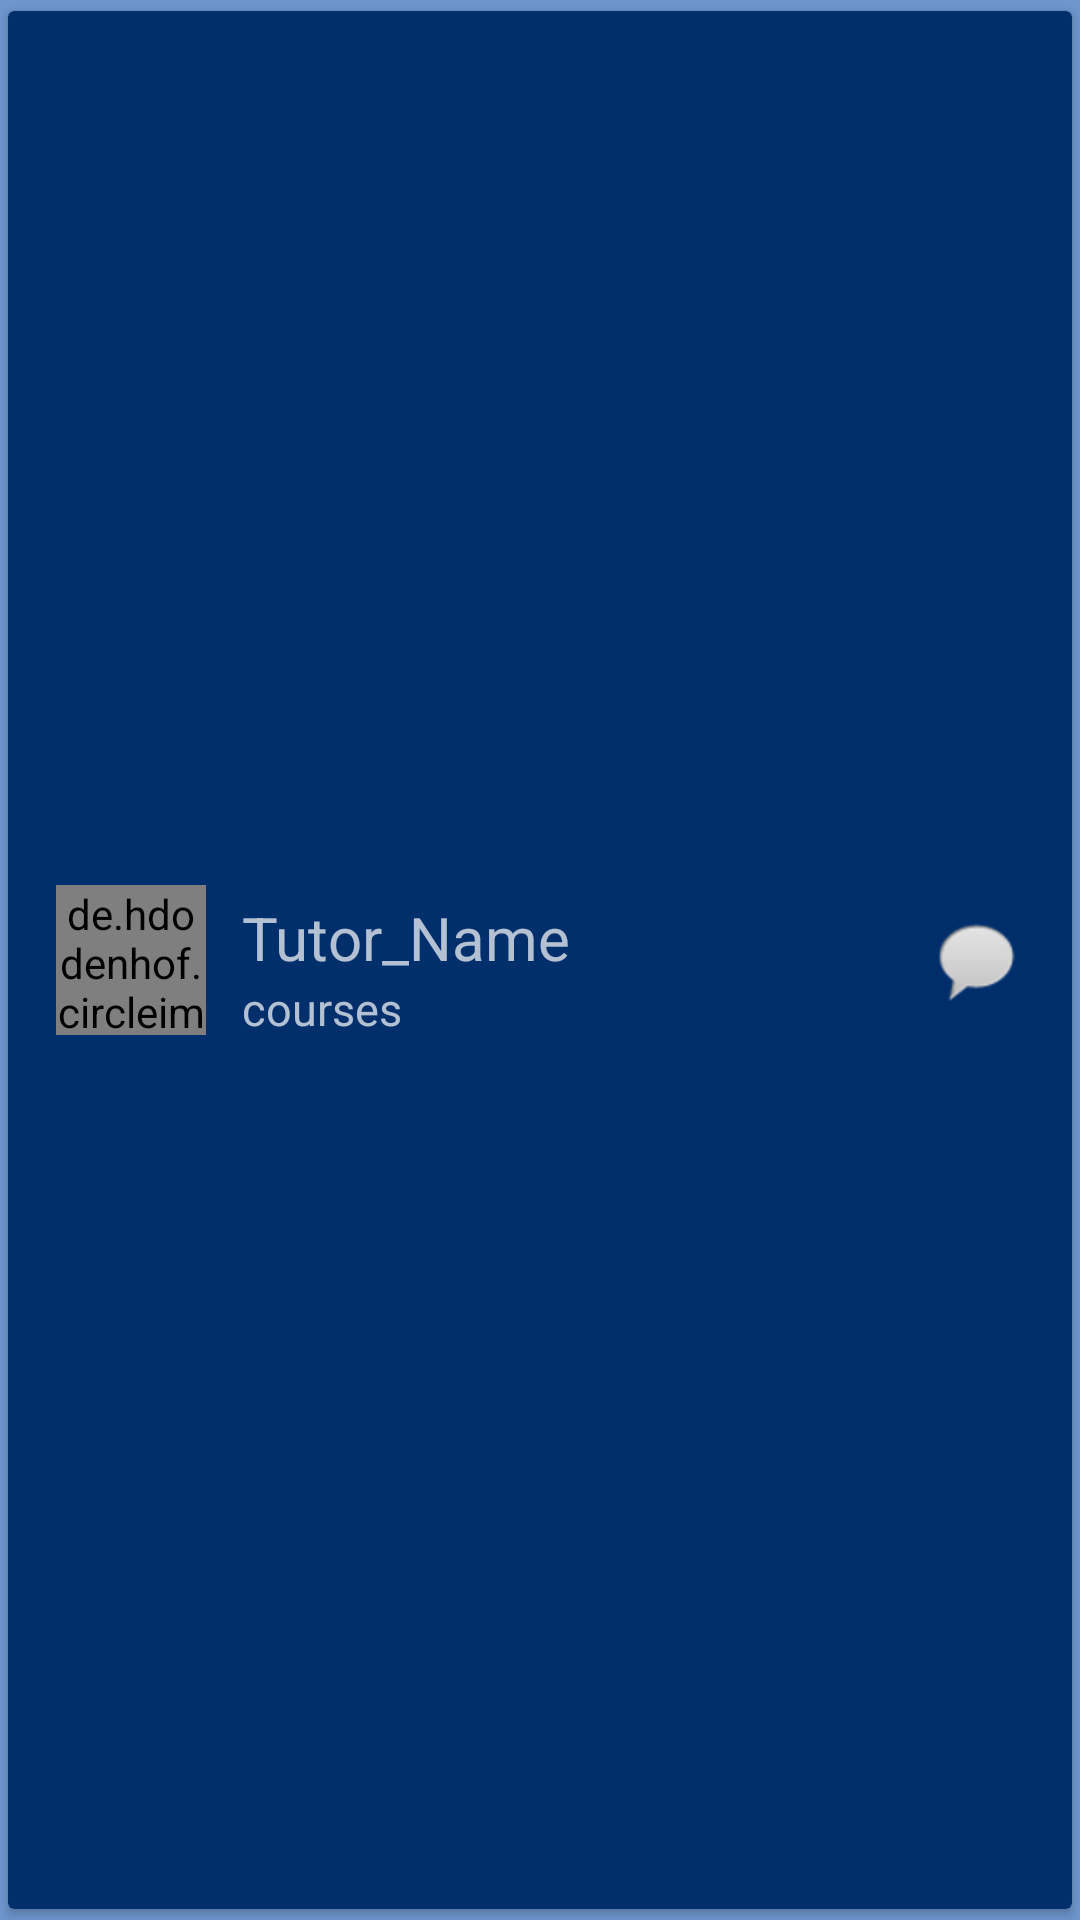

Where icons sit on this 1080px×1920px app screen, as (x1, y1, x2, y2):
sym action chat: (939, 924, 1014, 1001)
